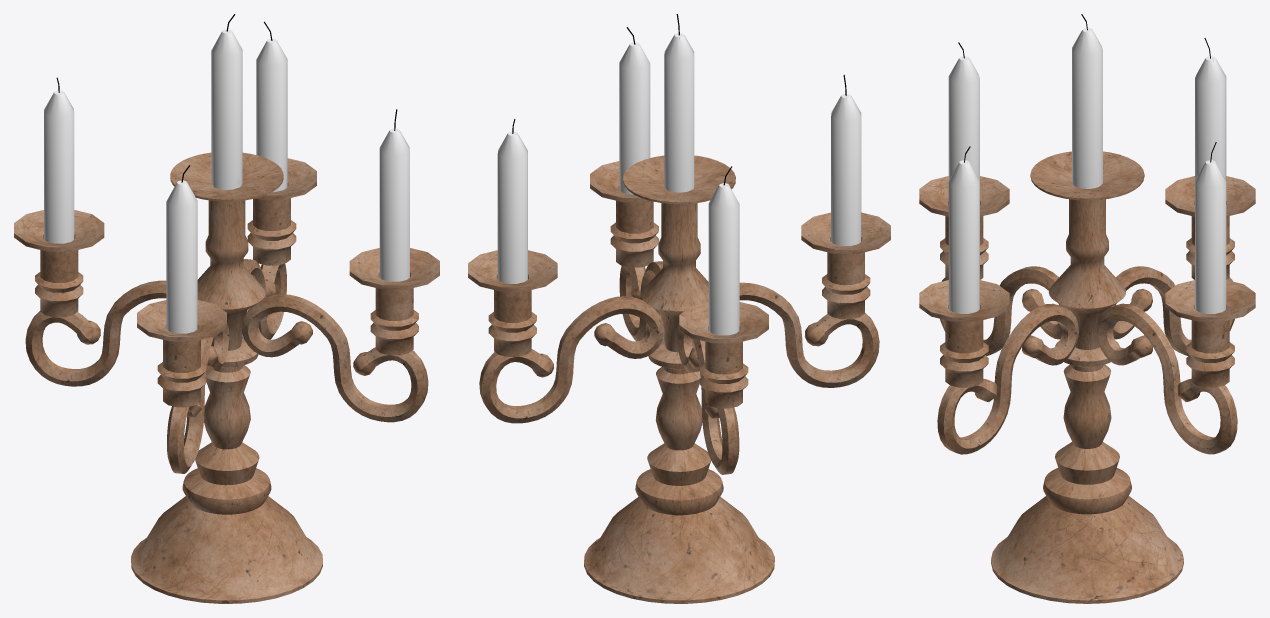
The model's file is candlestick4.fbx.
The picture shows the model from 3 angles, left to right: view 1: azimuth 30°, elevation 25°; view 2: azimuth 150°, elevation 25°; view 3: azimuth 270°, elevation 25°; orthographic projection.
Parts seen in each view (by area): view 1: candlestick4; view 2: candlestick4; view 3: candlestick4.
Part boxes in pixels (x1,y1,x2,y2): candlestick4: (14,14,439,603); candlestick4: (468,14,890,603); candlestick4: (919,14,1255,603).
Size of the model in its own units: 107 by 193 by 107.
